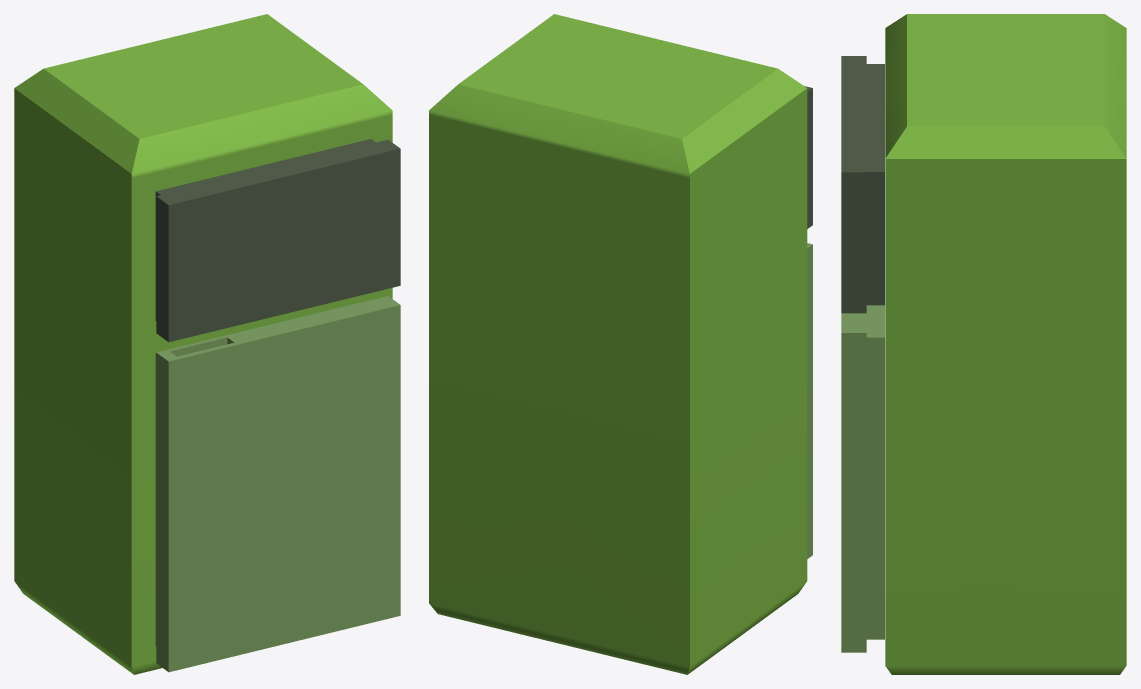
The model's file is Fridge_Low.fbx.
3 views of the same model, side by side, from view 1: azimuth 30°, elevation 25°; view 2: azimuth 150°, elevation 25°; view 3: azimuth 270°, elevation 25° (orthographic). The views are drawn at different scales.
Visible parts, largest first — view 1: fridge_base_low, lower_door2_low, upper_door2_low; view 2: fridge_base_low, lower_door2_low, upper_door2_low; view 3: fridge_base_low, lower_door2_low, upper_door2_low.
Boxes of the visible parts, <box> form: fridge_base_low: <box>14,14,392,674</box>; lower_door2_low: <box>155,296,400,672</box>; upper_door2_low: <box>155,139,400,342</box>; fridge_base_low: <box>429,14,807,674</box>; lower_door2_low: <box>807,243,812,558</box>; upper_door2_low: <box>804,86,812,228</box>; fridge_base_low: <box>885,14,1126,674</box>; lower_door2_low: <box>841,305,884,652</box>; upper_door2_low: <box>841,56,884,313</box>.
Size of the model in its own units: 548 by 1059 by 505.
